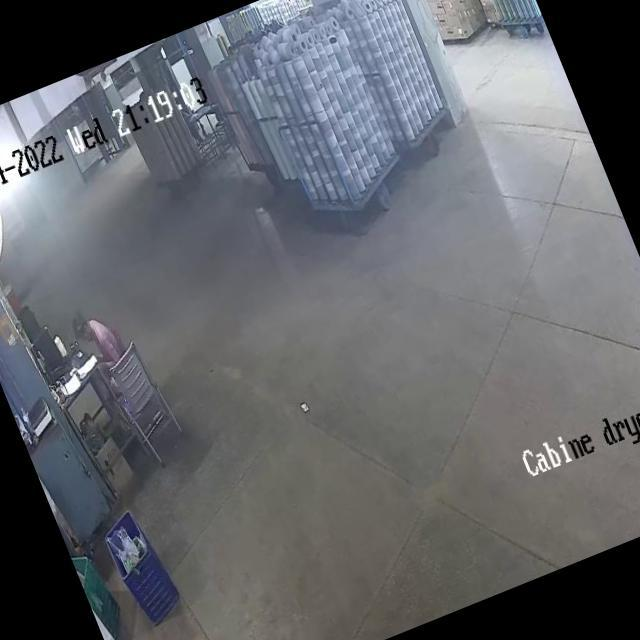person: (64, 296, 130, 378)
